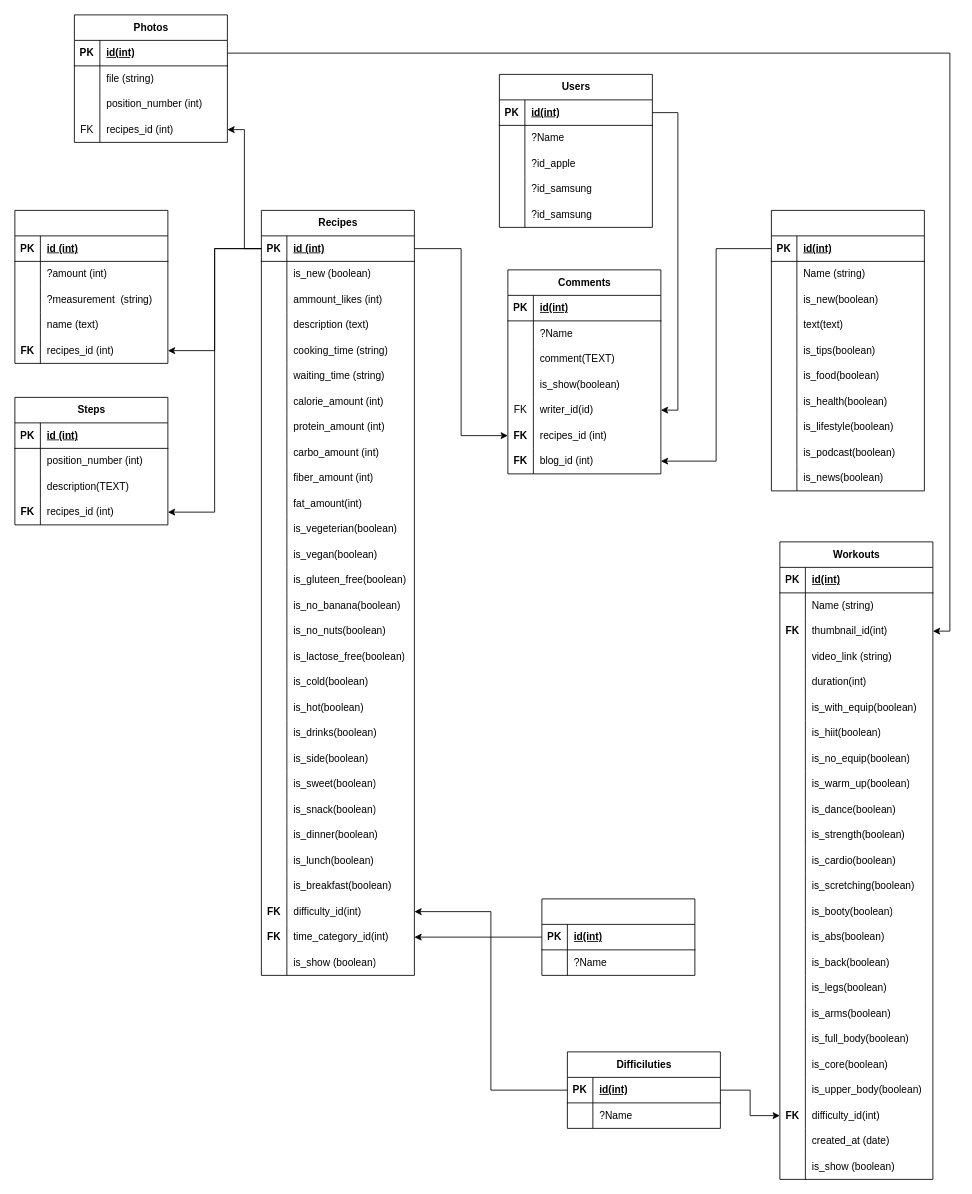
Image size: 972x1194. Some labels were removed from this diagram. The box of each missing label's shape, as (x1, y1, x2, y2) in pixels:
Blogs: (771, 210, 924, 491)
Ingridients: (14, 210, 168, 363)
Time_Categoties: (541, 898, 695, 975)
